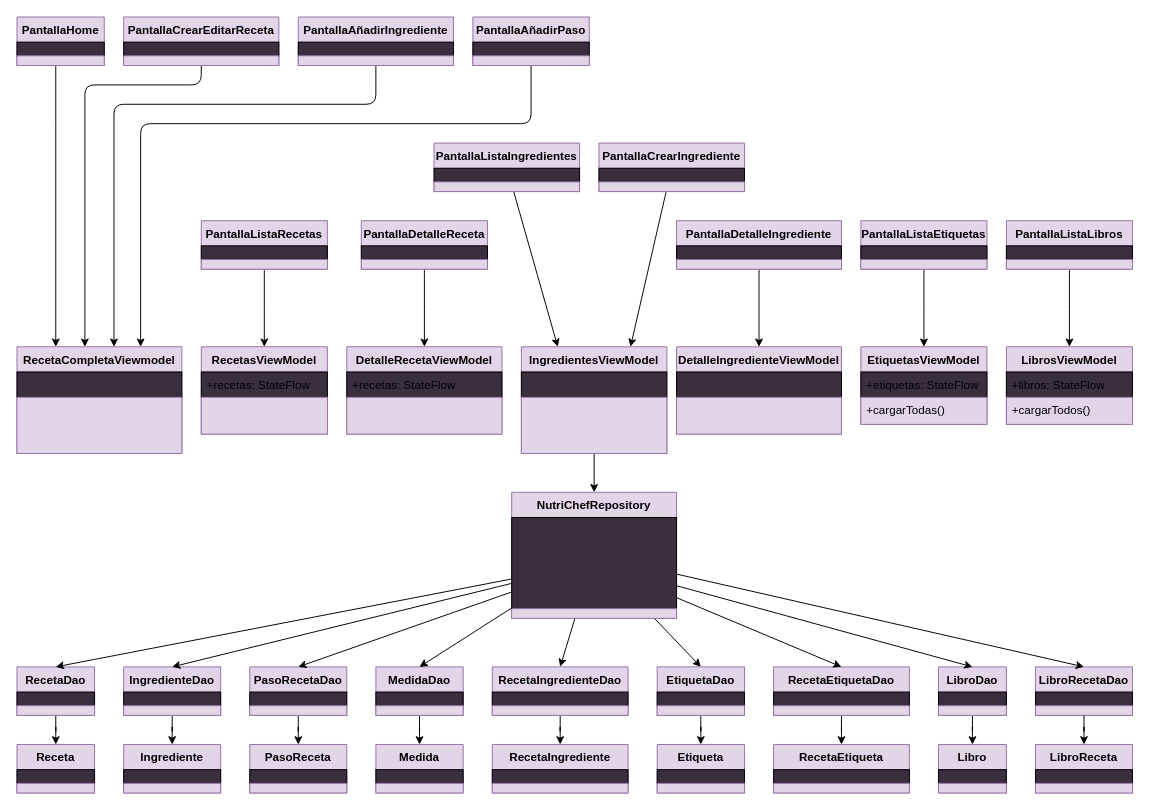
Image size: 1149x810. Some labels were removed from this diagram. The shapes that lost their labels are listed below. From the top down, each one's centre as x and y in pixels, then its label:
pixel 99 384: +uiState: StateFlow
pixel 593 384: +ingredientes: StateFlow
pixel 758 384: +ingrediente: StateFlow
pixel 99 424: +GuardarReceta() +resetearestado() +cargarRecetaParaEdicion()
pixel 263 415: +buscar() +cargarTodas()
pixel 424 415: +cargarReceta() +eliminar()
pixel 593 424: +guardar() +eliminar() +buscar()
pixel 758 415: +cargar() +eliminar()
pixel 594 563: +recetaDao +ingredienteDao +pasoDao +medidaDao +etiquetaDao +libroDao
